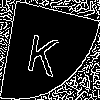K: (25, 24, 62, 77)
